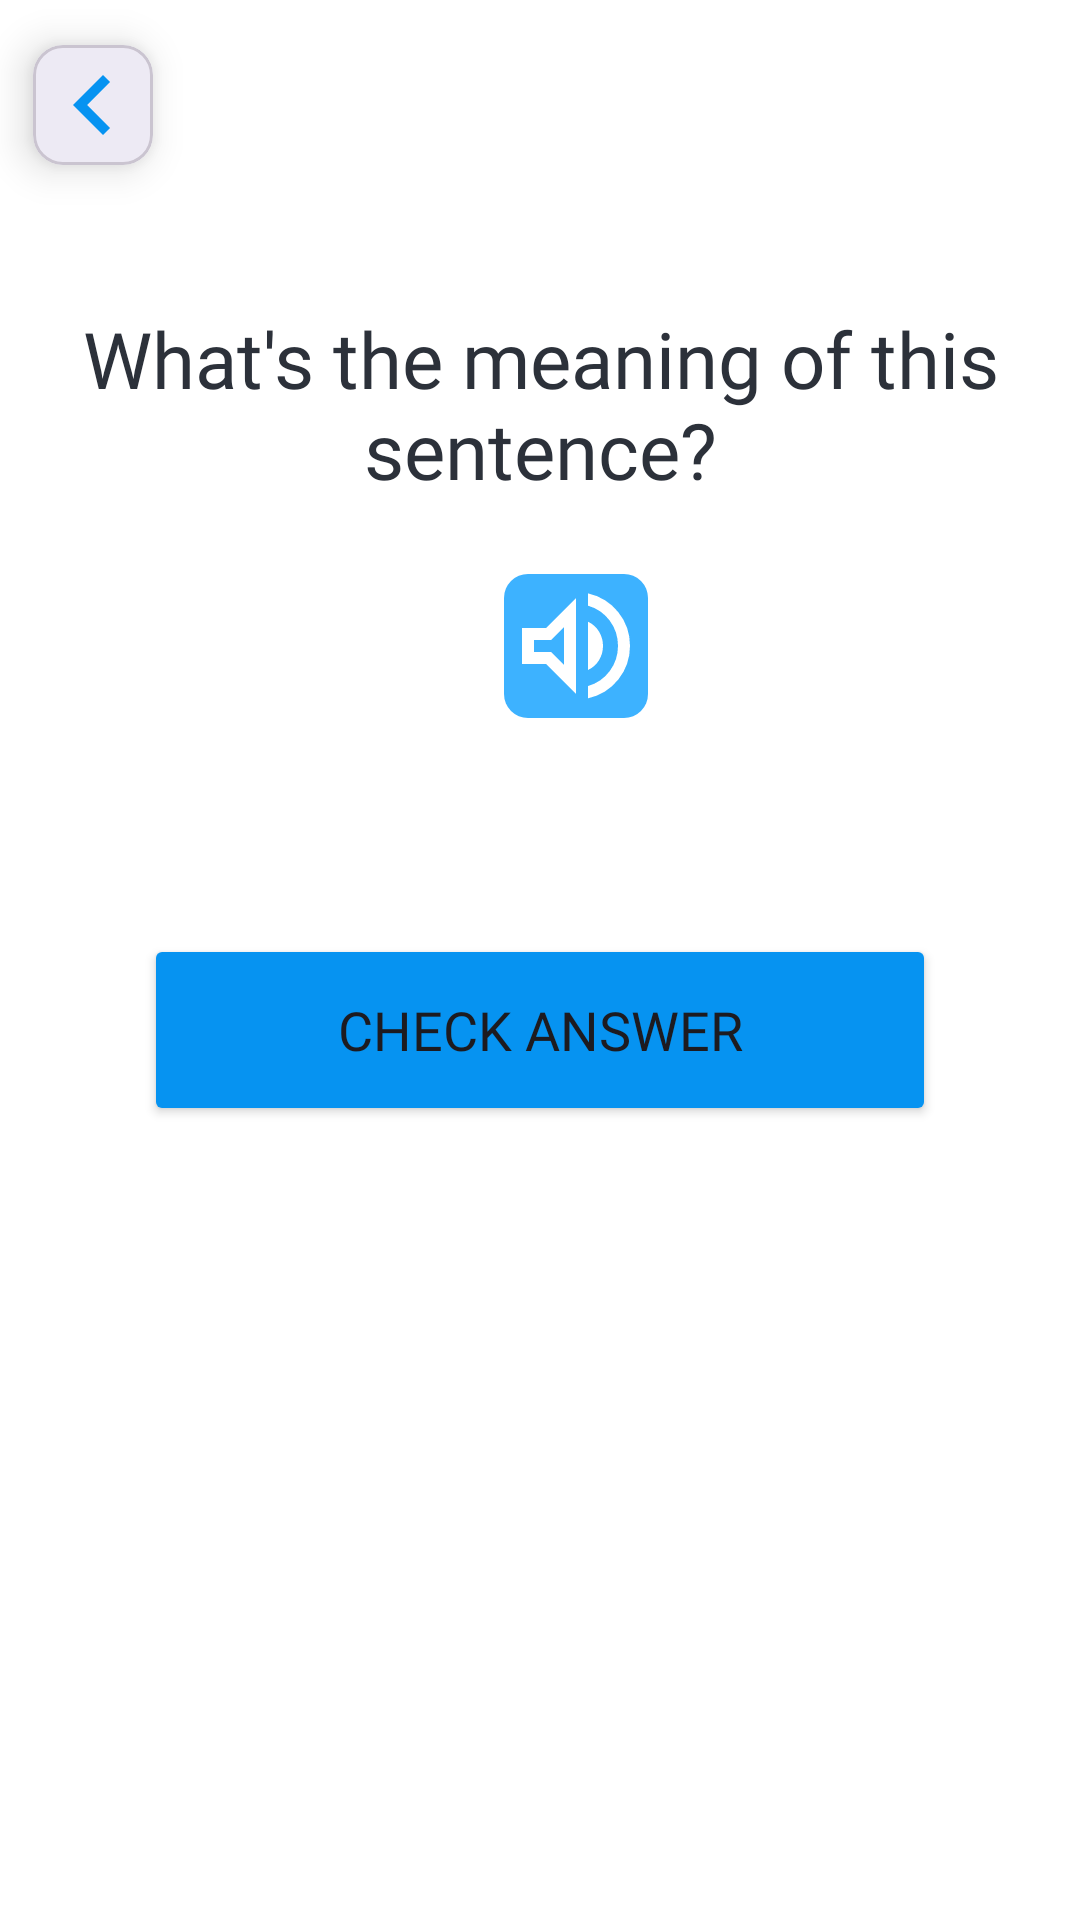

Icons on this 1080 x 1920 Android screen, each with its box as (x1, y1, x2, y2):
Back: (33, 45, 153, 165)
volume up: (504, 574, 648, 718)
